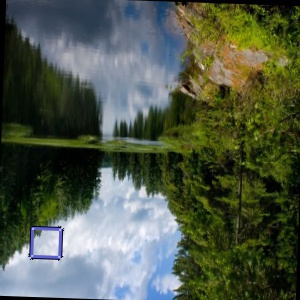square: (27, 224, 65, 262)
